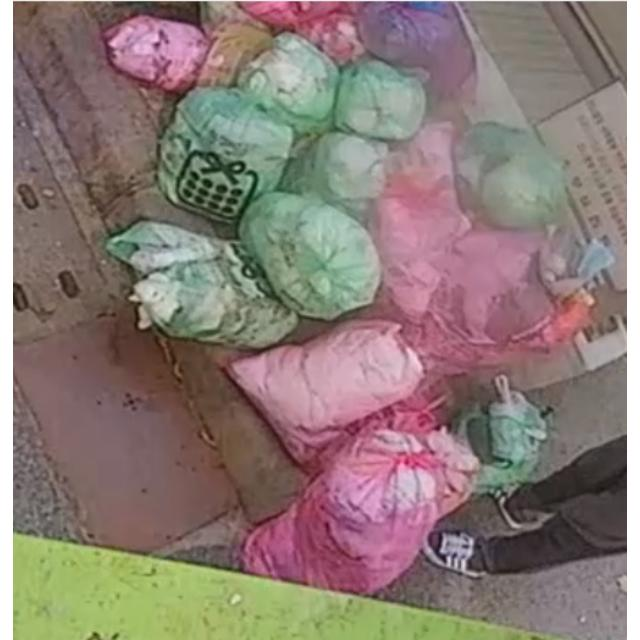general_trashbag: (107, 221, 298, 348), (240, 192, 382, 319), (159, 88, 294, 221), (457, 121, 568, 228), (238, 32, 338, 132), (279, 132, 388, 223), (336, 60, 426, 140)
other_trashbag: (242, 428, 478, 593), (228, 319, 424, 464), (406, 229, 593, 374), (377, 122, 472, 318), (358, 2, 474, 92), (104, 15, 209, 92)
